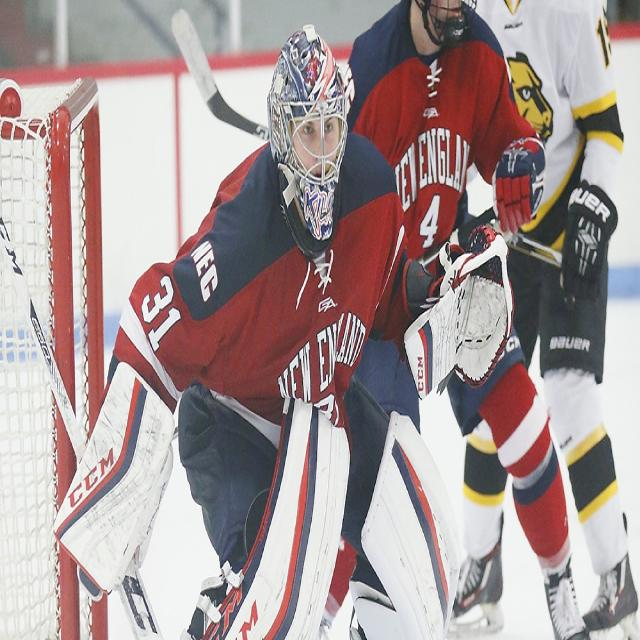body: (44, 16, 519, 639), (313, 0, 592, 640), (446, 0, 640, 640)
